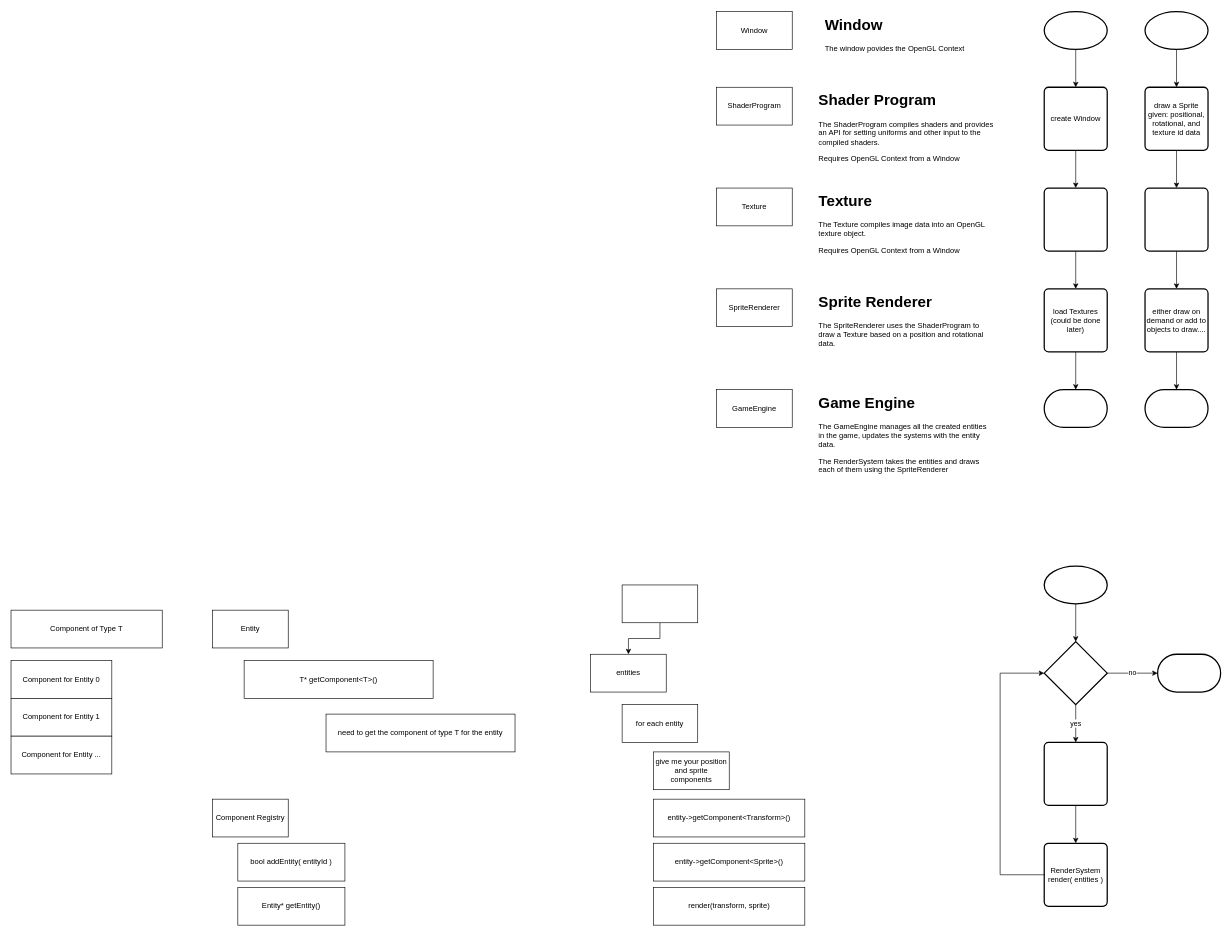
Image size: 1232x936. Some labels were removed from this diagram. The shapes that lost their labels are listed below. From the top down, each one's centre as x and y in pixels, then its label:
pixel 1075 219: create ShaderProgram
pixel 1176 219: apply view, projection, and clip transformations to local transform
pixel 659 603: RenderSystem
pixel 1075 673: if game running
pixel 1075 774: Send all entities to each system
